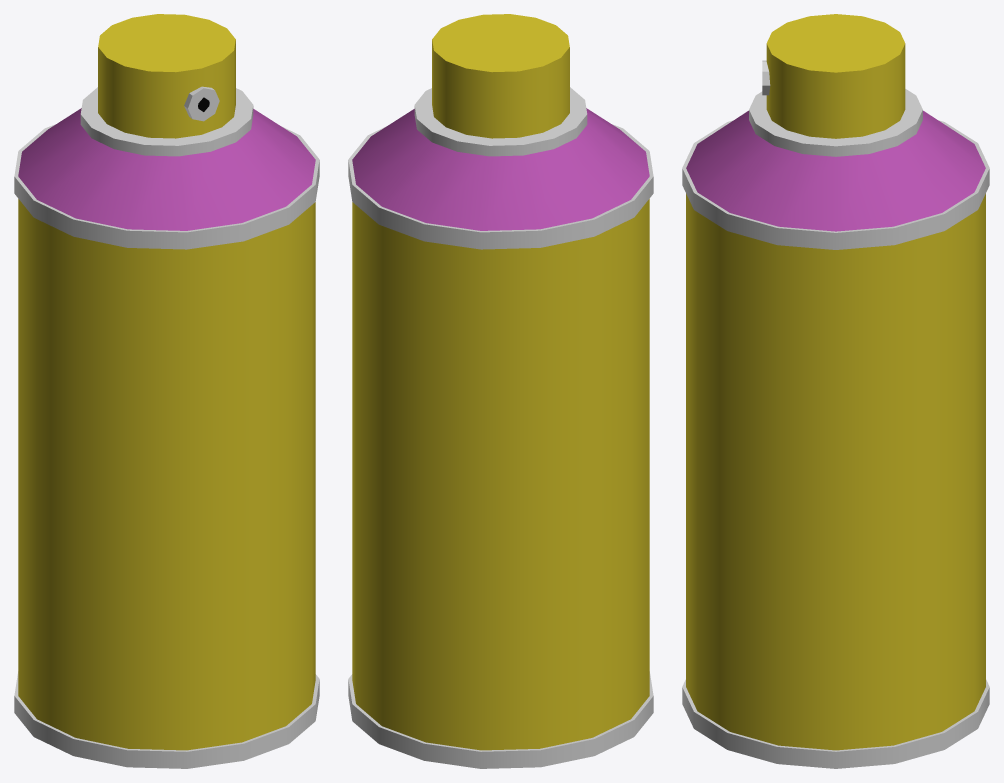
Rendered from SprayPaint.fbx.
3 views of the same model, side by side, from view 1: azimuth 30°, elevation 25°; view 2: azimuth 150°, elevation 25°; view 3: azimuth 270°, elevation 25° (orthographic).
Visible parts, largest first — view 1: SprayPaint; view 2: SprayPaint; view 3: SprayPaint.
Part boxes in pixels (x1,y1,x2,y2): SprayPaint: [14, 14, 319, 768]; SprayPaint: [348, 14, 653, 768]; SprayPaint: [682, 14, 989, 768].
Bounding box in the file's own units: 1.04 × 2.47 × 1.04.
